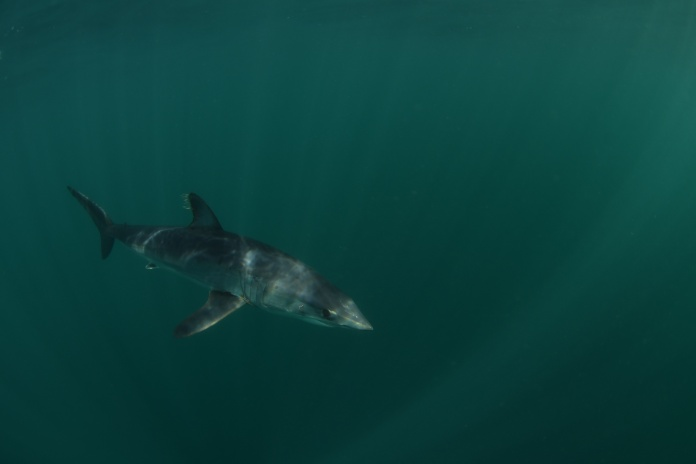Mako: (53, 170, 391, 350)
